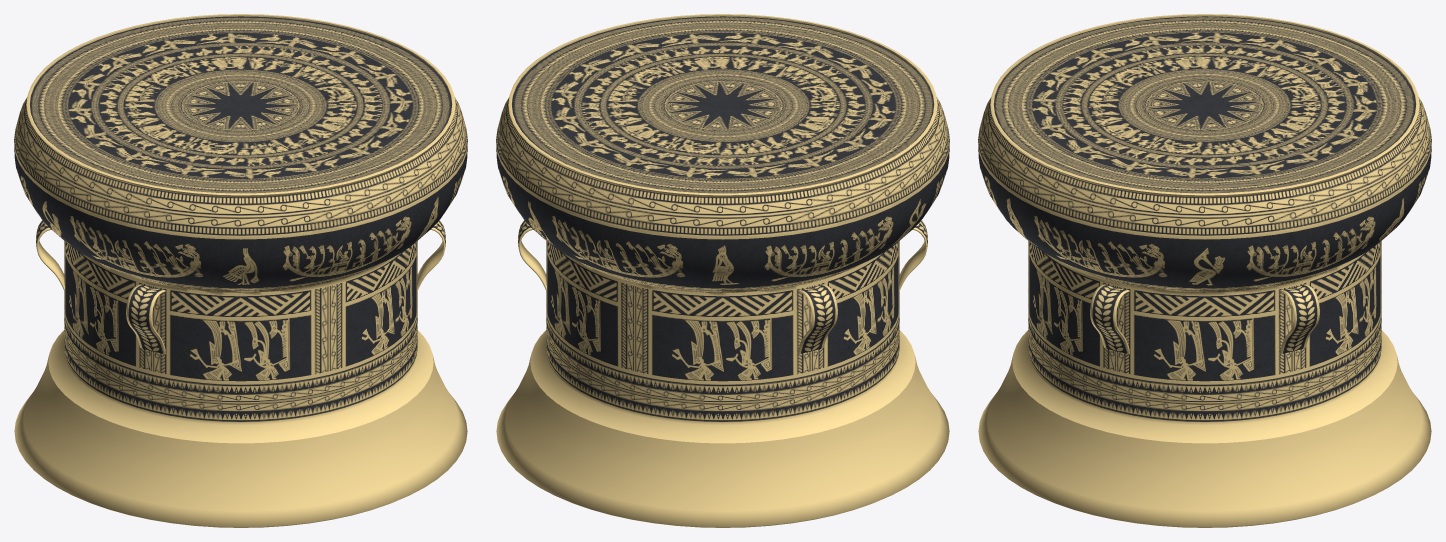
Rendered from drum.glb.
The picture shows the model from 3 angles, left to right: view 1: azimuth 30°, elevation 25°; view 2: azimuth 150°, elevation 25°; view 3: azimuth 270°, elevation 25°; orthographic projection.
Visible parts, largest first — view 1: Circle.007, Circle.005, Circle.021, Circle.036, Circle.030, Circle.025; view 2: Circle.007, Circle.005, Circle.025, Circle.036, Circle.031, Circle.030, Circle.022, Circle.021, Circle.028; view 3: Circle.007, Circle.005, Circle.021, Circle.025, Circle.031, Circle.023, Circle.024, Circle.030, Circle.036.
Part boxes in pixels (x1=…): Circle.007: x1=14, y1=14, x2=467, y2=527; Circle.005: x1=30, y1=16, x2=451, y2=193; Circle.021: x1=27, y1=146, x2=467, y2=279; Circle.036: x1=14, y1=141, x2=351, y2=234; Circle.030: x1=81, y1=253, x2=293, y2=296; Circle.025: x1=88, y1=251, x2=408, y2=330; Circle.007: x1=496, y1=14, x2=949, y2=527; Circle.005: x1=512, y1=16, x2=933, y2=193; Circle.025: x1=550, y1=249, x2=881, y2=379; Circle.036: x1=496, y1=141, x2=949, y2=239; Circle.031: x1=546, y1=308, x2=884, y2=384; Circle.030: x1=563, y1=253, x2=882, y2=296; Circle.022: x1=699, y1=242, x2=746, y2=287; Circle.021: x1=496, y1=146, x2=901, y2=281; Circle.028: x1=581, y1=262, x2=864, y2=292; Circle.007: x1=978, y1=14, x2=1431, y2=527; Circle.005: x1=994, y1=16, x2=1415, y2=193; Circle.021: x1=1022, y1=174, x2=1420, y2=286; Circle.025: x1=1041, y1=242, x2=1380, y2=380; Circle.031: x1=1030, y1=308, x2=1381, y2=383; Circle.023: x1=1181, y1=239, x2=1228, y2=287; Circle.024: x1=1375, y1=192, x2=1410, y2=242; Circle.030: x1=1101, y1=253, x2=1364, y2=295; Circle.036: x1=983, y1=141, x2=1431, y2=233.
Size of the model in its own units: 13.72 by 11 by 13.72.
1 material, 1 textured.
